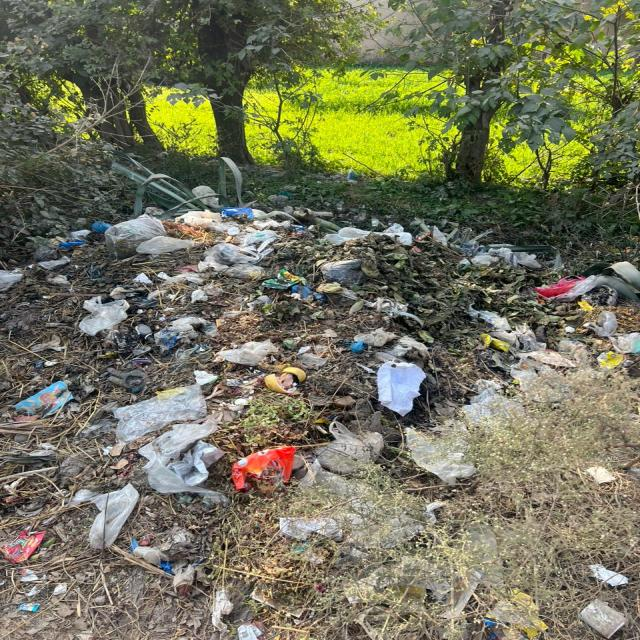garbage: (13, 208, 640, 600)
